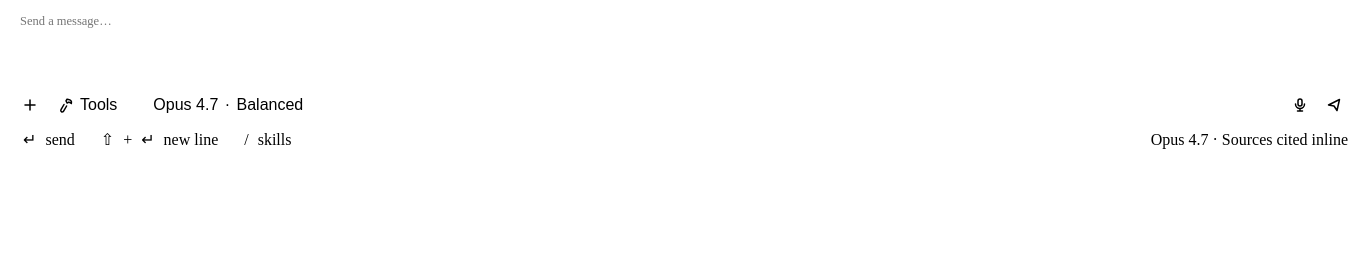
Test: Composer › toggles the ToolPicker open and closed
Click the button with test id "composer-tools-toggle".
click(88, 105)  # box [48,91,127,119]
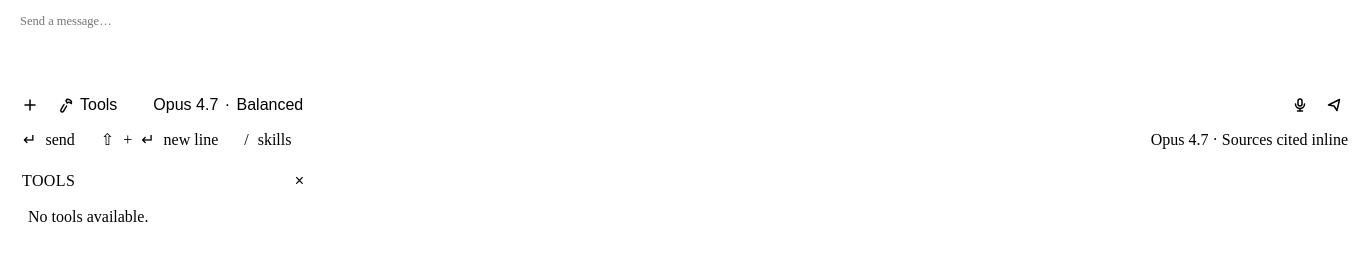
Expected: the list with test id "tool-picker" is shown, [8,162,324,244]
Click the button with test id "composer-tools-toggle".
click(88, 105)  # box [48,91,127,119]
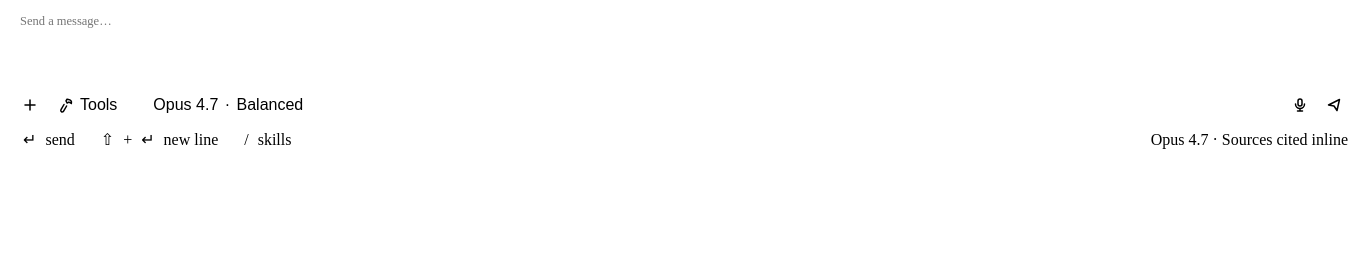
Expected: the list with test id "tool-picker" is gone
